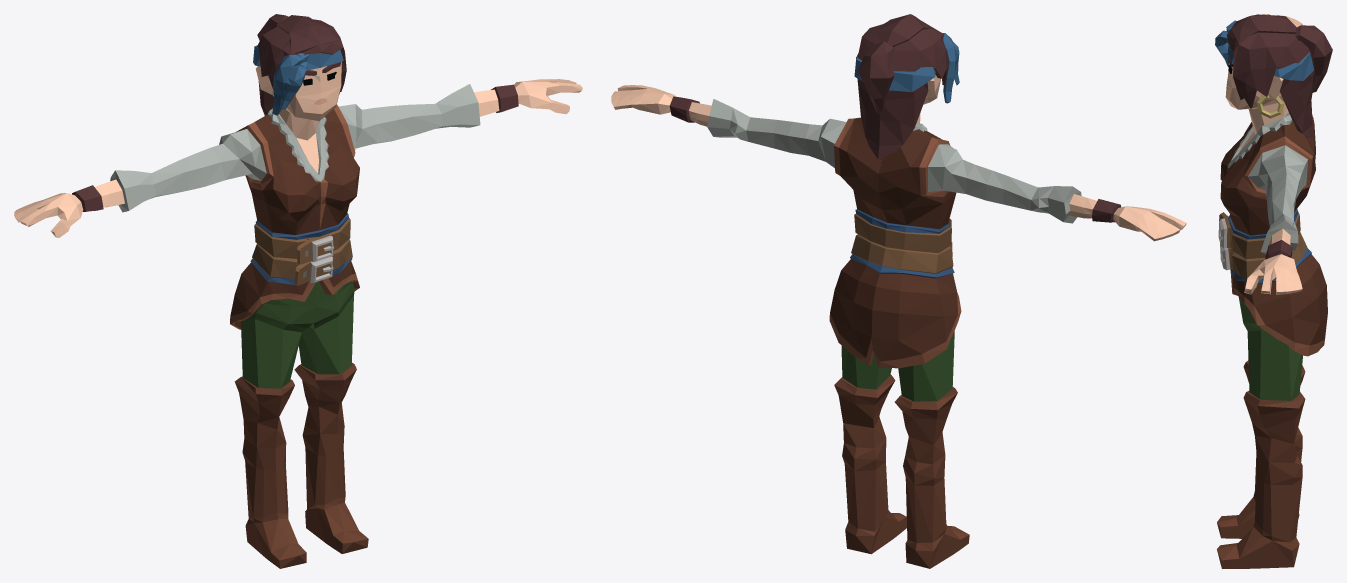
Rendered from ganadera.fbx.
3 renders of one model, left to right at view 1: azimuth 30°, elevation 25°; view 2: azimuth 150°, elevation 25°; view 3: azimuth 270°, elevation 25°, orthographic.
Parts seen in each view (by area): view 1: Character_Female_Pirate_01; view 2: Character_Female_Pirate_01; view 3: Character_Female_Pirate_01.
Part boxes in pixels (x1,y1,x2,y2): Character_Female_Pirate_01: (14, 14, 582, 568); Character_Female_Pirate_01: (611, 14, 1186, 568); Character_Female_Pirate_01: (1215, 14, 1332, 568).
Size of the model in its own units: 80.37 by 14.42 by 71.9.
Materials: 1 (1 with a texture image).
